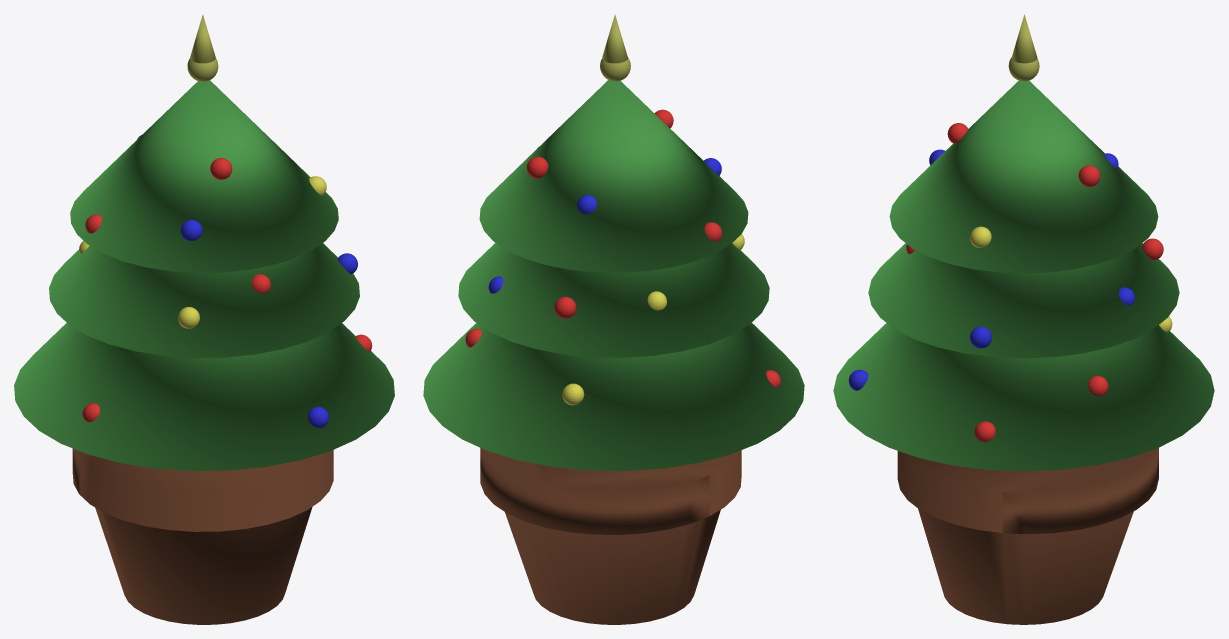
Rendered from ChrisTree.fbx.
3 renders of one model, left to right at view 1: azimuth 30°, elevation 25°; view 2: azimuth 150°, elevation 25°; view 3: azimuth 270°, elevation 25°, orthographic.
Parts seen in each view (by area): view 1: Cone.002, Cone, Cylinder, Cone.001, Cone.003, Sphere.017; view 2: Cone.002, Cone, Cylinder, Cone.001, Cone.003, Sphere.017; view 3: Cone.002, Cone, Cylinder, Cone.001, Cone.003, Sphere.017.
Part boxes in pixels (x1,y1,x2,y2): Cone.002: (14,323,394,470); Cone: (70,80,338,272); Cylinder: (72,448,333,624); Cone.001: (49,243,359,357); Cone.003: (190,14,215,63); Sphere.017: (187,58,218,81); Cone.002: (423,322,804,470); Cone: (479,80,748,272); Cylinder: (480,448,741,624); Cone.001: (458,243,769,357); Cone.003: (602,14,627,63); Sphere.017: (600,57,630,81); Cone.002: (833,323,1214,471); Cone: (889,80,1158,273); Cylinder: (897,448,1158,624); Cone.001: (868,243,1179,358); Cone.003: (1011,14,1037,63); Sphere.017: (1008,57,1039,81).
Size of the model in its own units: 472 by 787 by 472.
